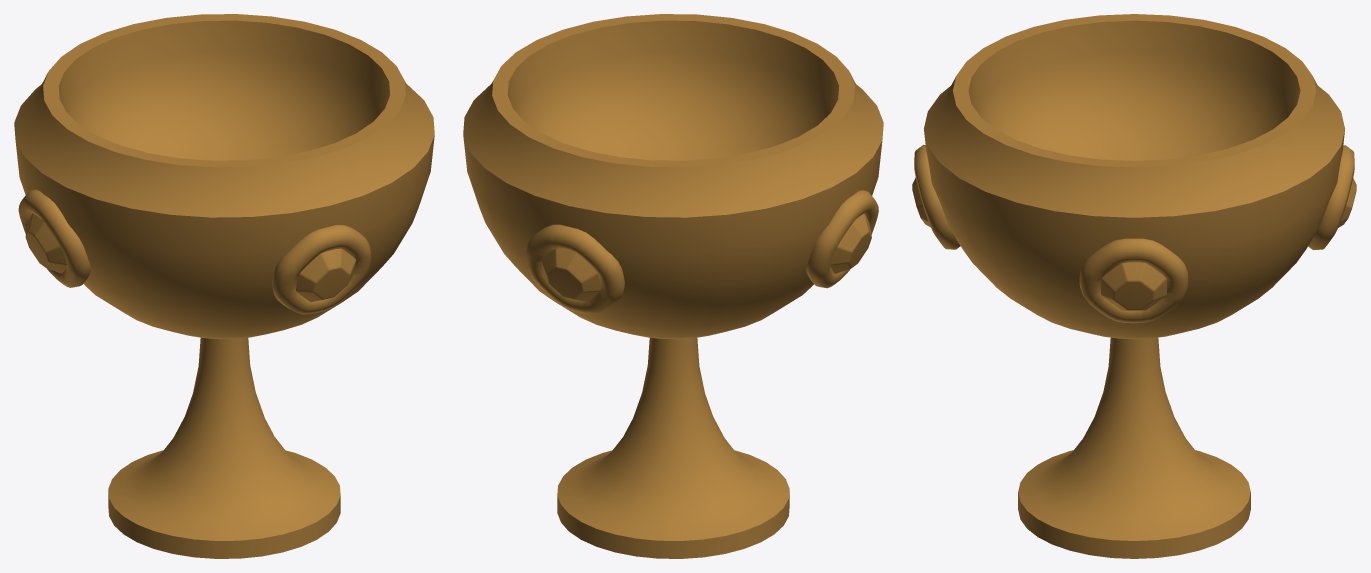
Rendered from obj_treasure_03.fbx.
3 renders of one model, left to right at view 1: azimuth 30°, elevation 25°; view 2: azimuth 150°, elevation 25°; view 3: azimuth 270°, elevation 25°, orthographic.
Visible parts, largest first — view 1: Sphere.005, Cube.034, Cube.036; view 2: Sphere.005, Cube.034, Cube.036; view 3: Sphere.005, Cube.034, Cube.036.
Boxes of the visible parts, x1,y1,x2,y2 form: Sphere.005: (14, 14, 434, 558); Cube.034: (18, 189, 371, 314); Cube.036: (25, 213, 355, 302); Sphere.005: (463, 14, 883, 558); Cube.034: (525, 190, 878, 314); Cube.036: (541, 214, 871, 301); Sphere.005: (924, 14, 1344, 558); Cube.034: (914, 145, 1354, 323); Cube.036: (912, 177, 1356, 310).
Bounding box in the file's own units: 7.34 × 7.64 × 7.34.
